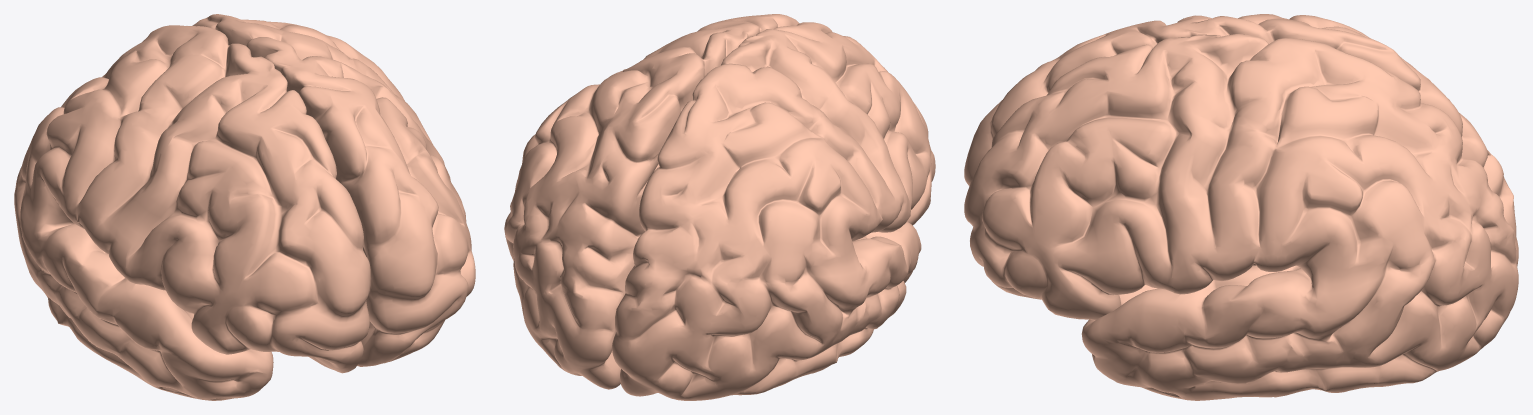
Rendered from brain.gltf.
3 renders of one model, left to right at view 1: azimuth 30°, elevation 25°; view 2: azimuth 150°, elevation 25°; view 3: azimuth 270°, elevation 25°, orthographic. The views are drawn at different scales.
Parts seen in each view (by area): view 1: Brain_Part_06; view 2: Brain_Part_06; view 3: Brain_Part_06.
Boxes of the visible parts, <box> form: Brain_Part_06: <box>14,14,475,400</box>; Brain_Part_06: <box>504,14,935,400</box>; Brain_Part_06: <box>964,14,1518,400</box>.
Size of the model in its own units: 3.8 by 3.01 by 4.73.
